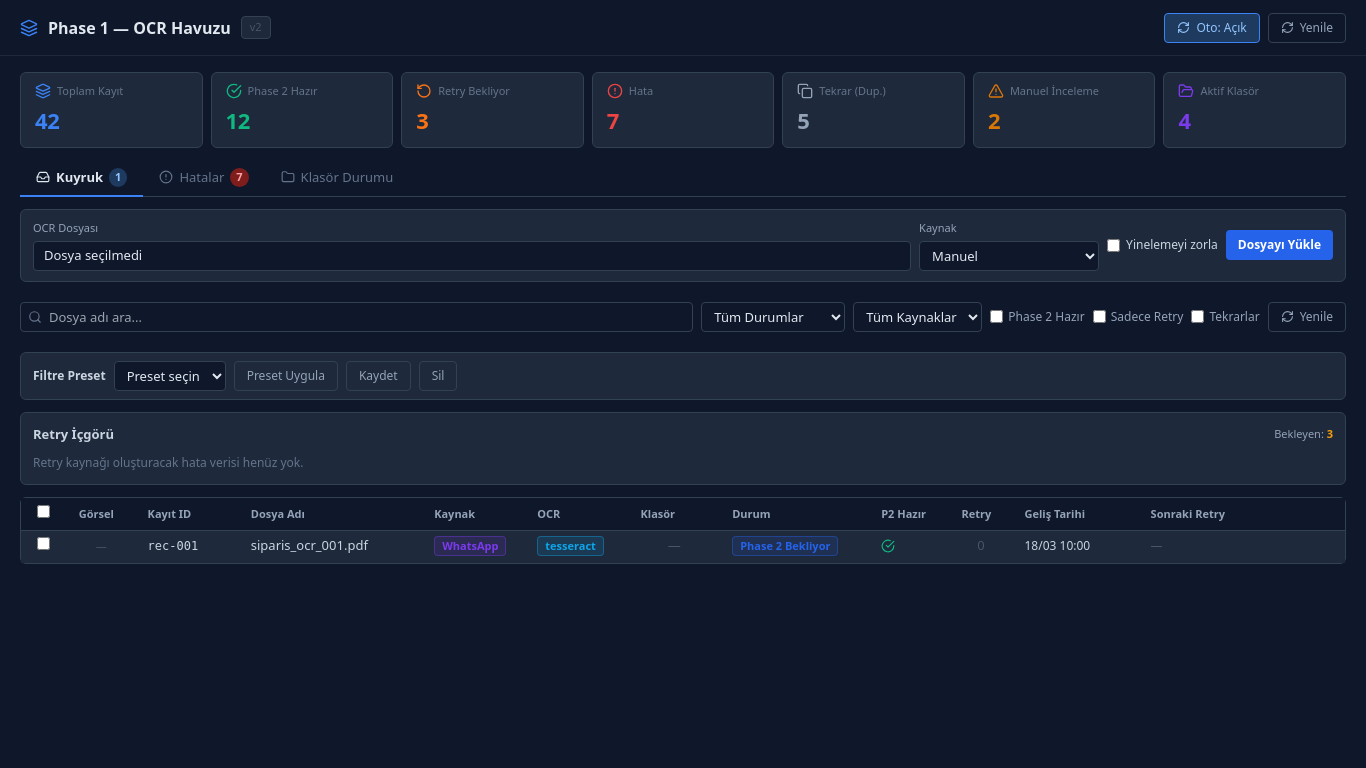
it: Phase1QueuePage › Hatalar sekmesi boş olunca 'Hata kaydı yok' mesajı gösterir
Expected: the text "Phase 1 — OCR Havuzu" is shown, [48,16,231,40]
Step 1. Click the button "Hatalar 7" → (204, 178), box [143,160,265,197]
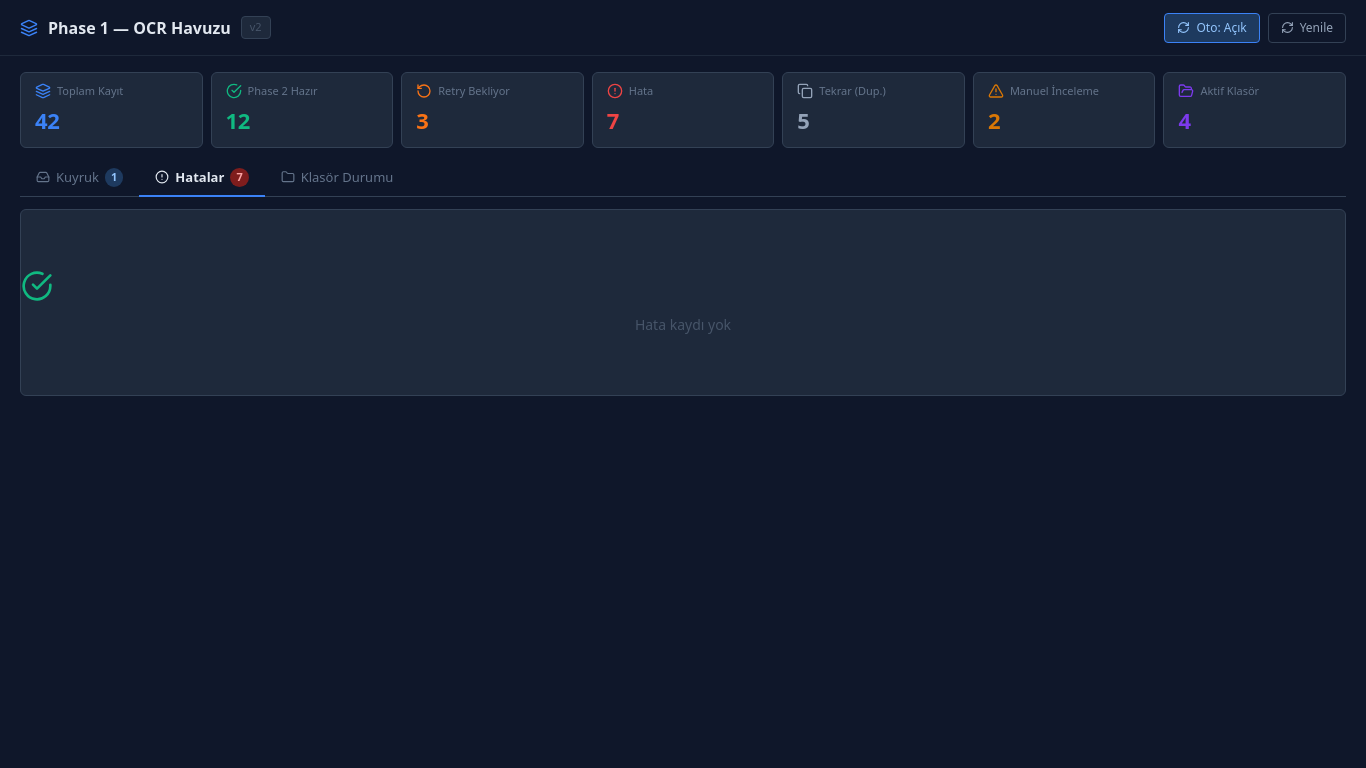
Expected: the text "Hata kaydı yok" is shown, [635,315,731,334]
